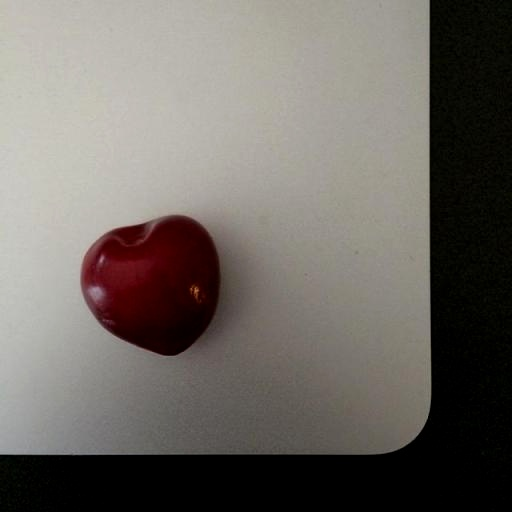fruit: (81, 216, 219, 355)
